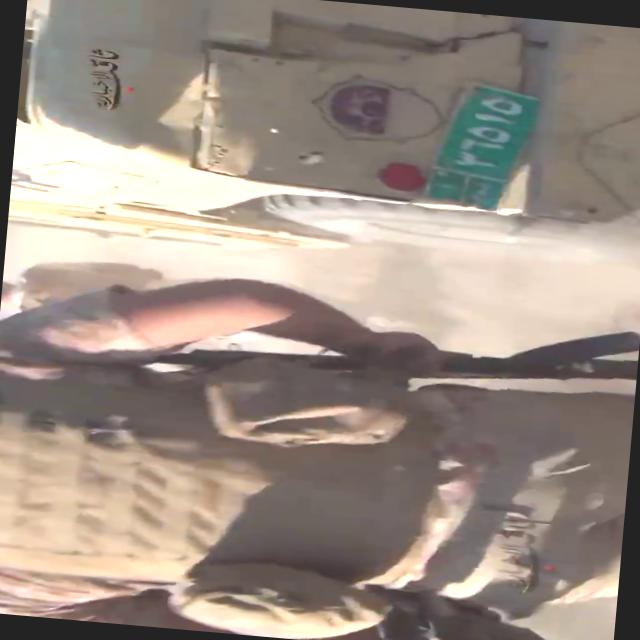long weapon: (134, 269, 639, 417)
